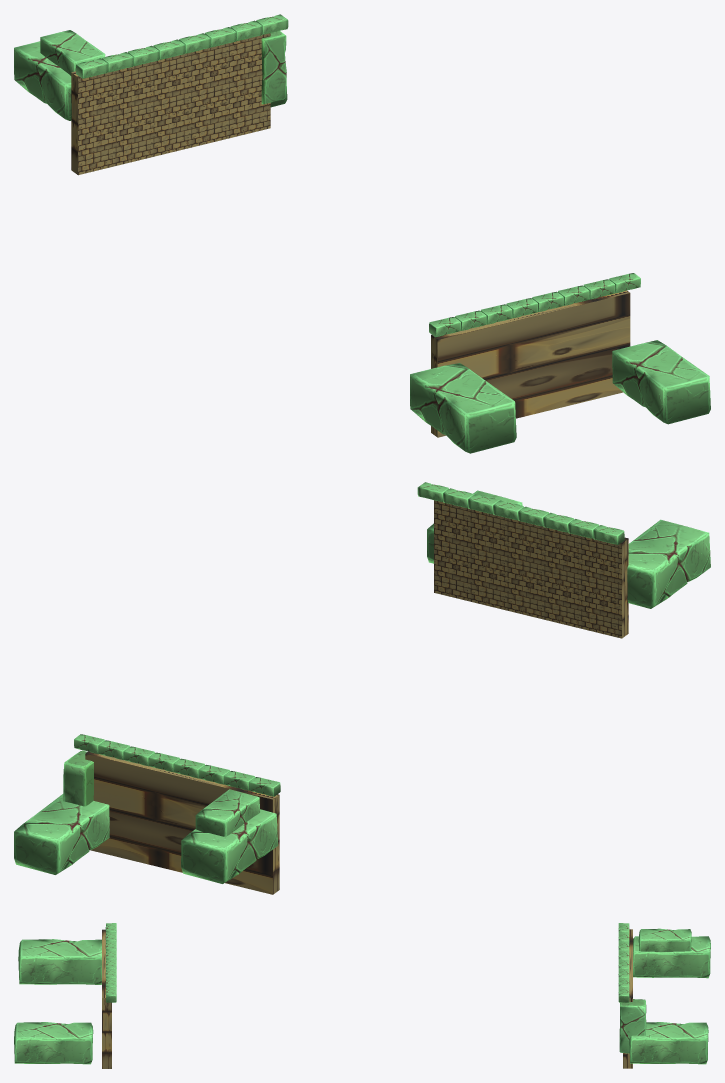
Rendered from wall_north_south.obj.
3 views of the same model, one above another, from view 1: azimuth 30°, elevation 25°; view 2: azimuth 150°, elevation 25°; view 3: azimuth 270°, elevation 25° (orthographic). The views are drawn at different scales.
Visible parts, largest first — view 1: Puente.001_Puente.003, Puente.000, brick3_low.038, brick3_low.019, brick3_low.018, brick3_low.007, brick3_low.084, brick3_low.008; view 2: Puente.000, Puente.001_Puente.003, brick3_low.038, brick3_low.019, brick3_low.017, brick3_low.007, brick3_low.008, brick3_low.084; view 3: brick3_low.019, brick3_low.018, brick3_low.017, brick3_low.007, brick3_low.038, brick3_low.008, brick3_low.084, Puente.000, Puente.001_Puente.003.
Boxes of the visible parts, box(x1,y1,x2,y2) form: Puente.001_Puente.003: box(71, 33, 270, 175); Puente.000: box(431, 290, 630, 437); brick3_low.038: box(76, 14, 640, 337); brick3_low.019: box(410, 363, 516, 453); brick3_low.018: box(612, 340, 710, 424); brick3_low.007: box(14, 41, 71, 120); brick3_low.084: box(261, 31, 286, 104); brick3_low.008: box(40, 30, 105, 75); Puente.000: box(434, 500, 628, 638); Puente.001_Puente.003: box(85, 751, 279, 894); brick3_low.038: box(74, 482, 624, 796); brick3_low.019: box(627, 519, 710, 608); brick3_low.017: box(14, 794, 109, 874); brick3_low.007: box(181, 809, 278, 883); brick3_low.008: box(195, 789, 260, 836); brick3_low.084: box(63, 750, 93, 806); brick3_low.019: box(18, 939, 101, 984); brick3_low.018: box(14, 1022, 93, 1064); brick3_low.017: box(629, 1022, 708, 1064); brick3_low.007: box(633, 936, 710, 978); brick3_low.038: box(105, 923, 629, 1002); brick3_low.008: box(638, 928, 691, 951); brick3_low.084: box(619, 999, 646, 1053); Puente.000: box(102, 929, 111, 1068); Puente.001_Puente.003: box(623, 929, 632, 1068).
Bounding box in the file's own units: 955 × 405 × 3266.
